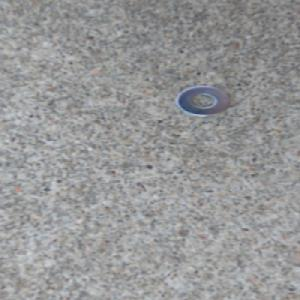Washer: (171, 84, 232, 119)
